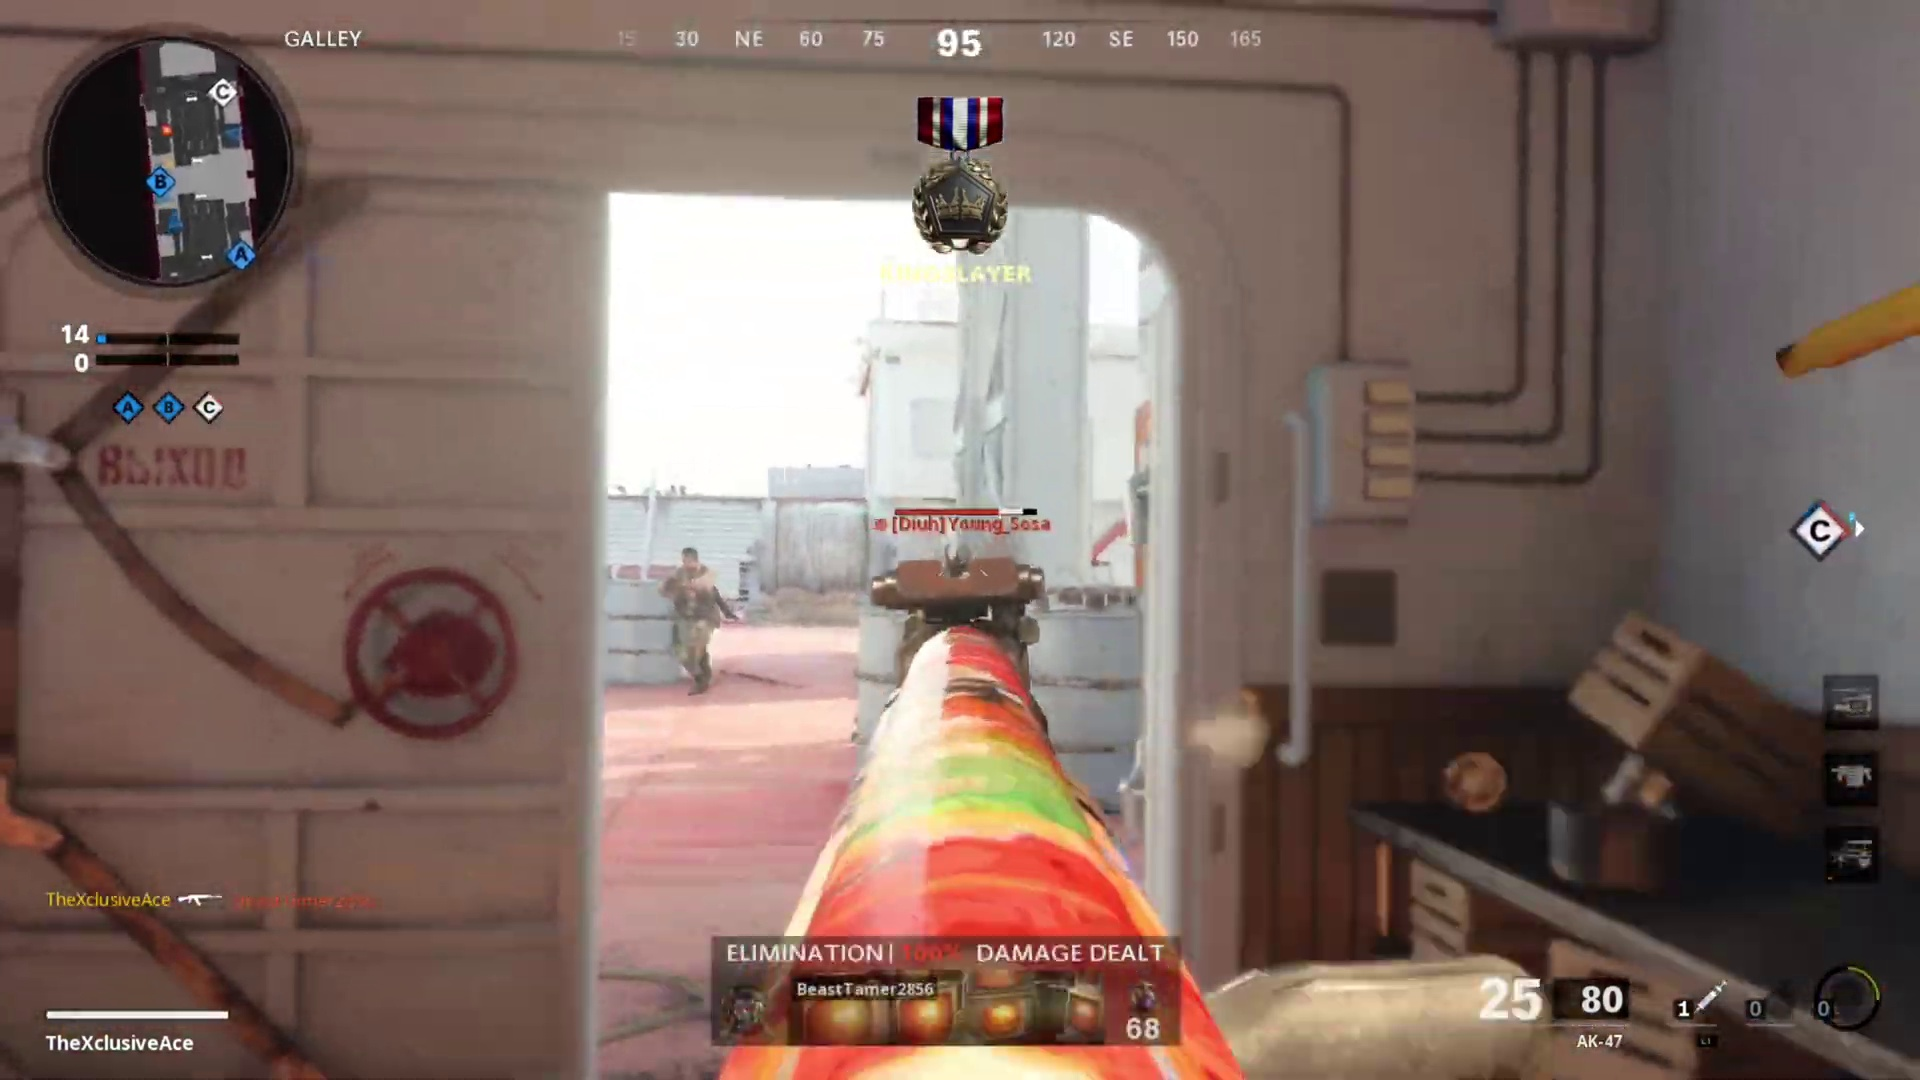head: (678, 541, 703, 576)
person: (656, 545, 738, 694)
